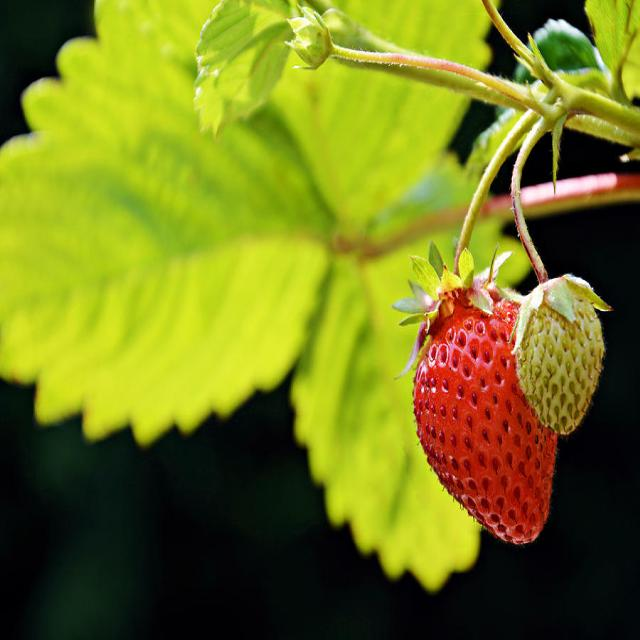immature: (516, 278, 603, 438)
mature: (413, 296, 557, 542)
